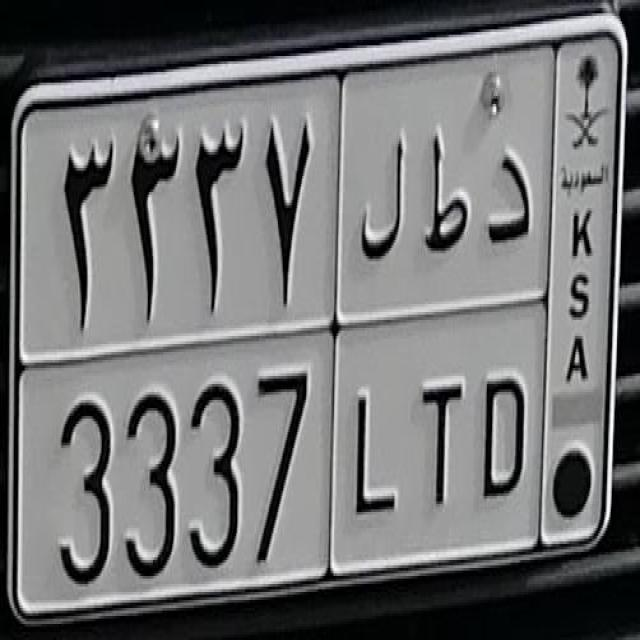license_plate: (12, 20, 630, 629)
